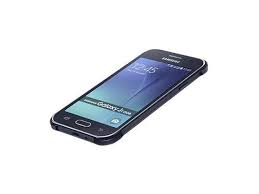samsung: (45, 45, 208, 147)
